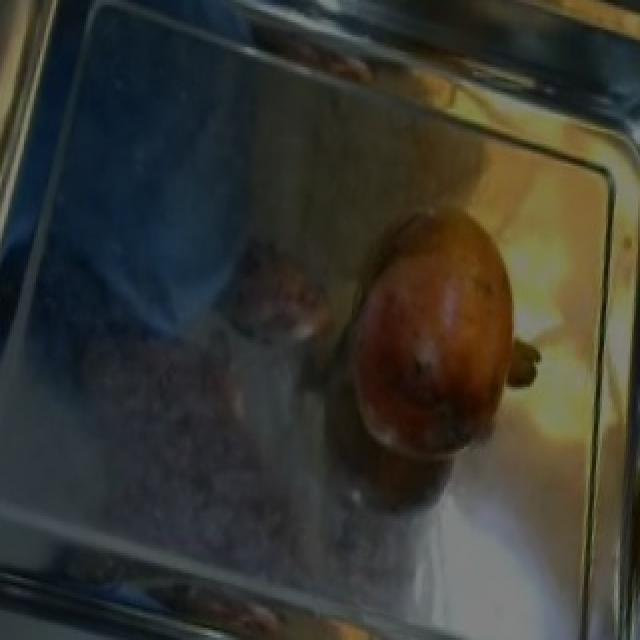fruit: (330, 186, 548, 469)
